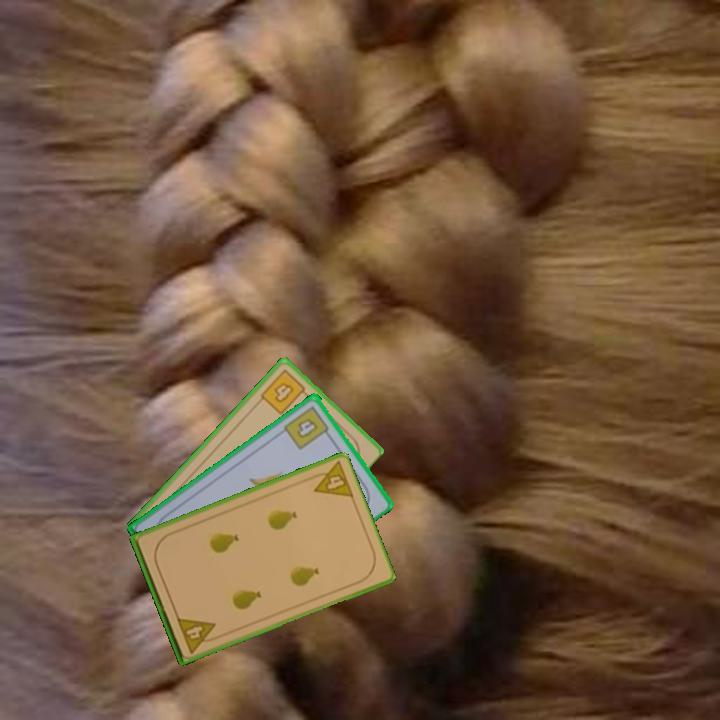4b: (257, 366, 312, 418), (280, 402, 334, 452)
4p: (304, 458, 356, 500), (173, 613, 222, 656)
